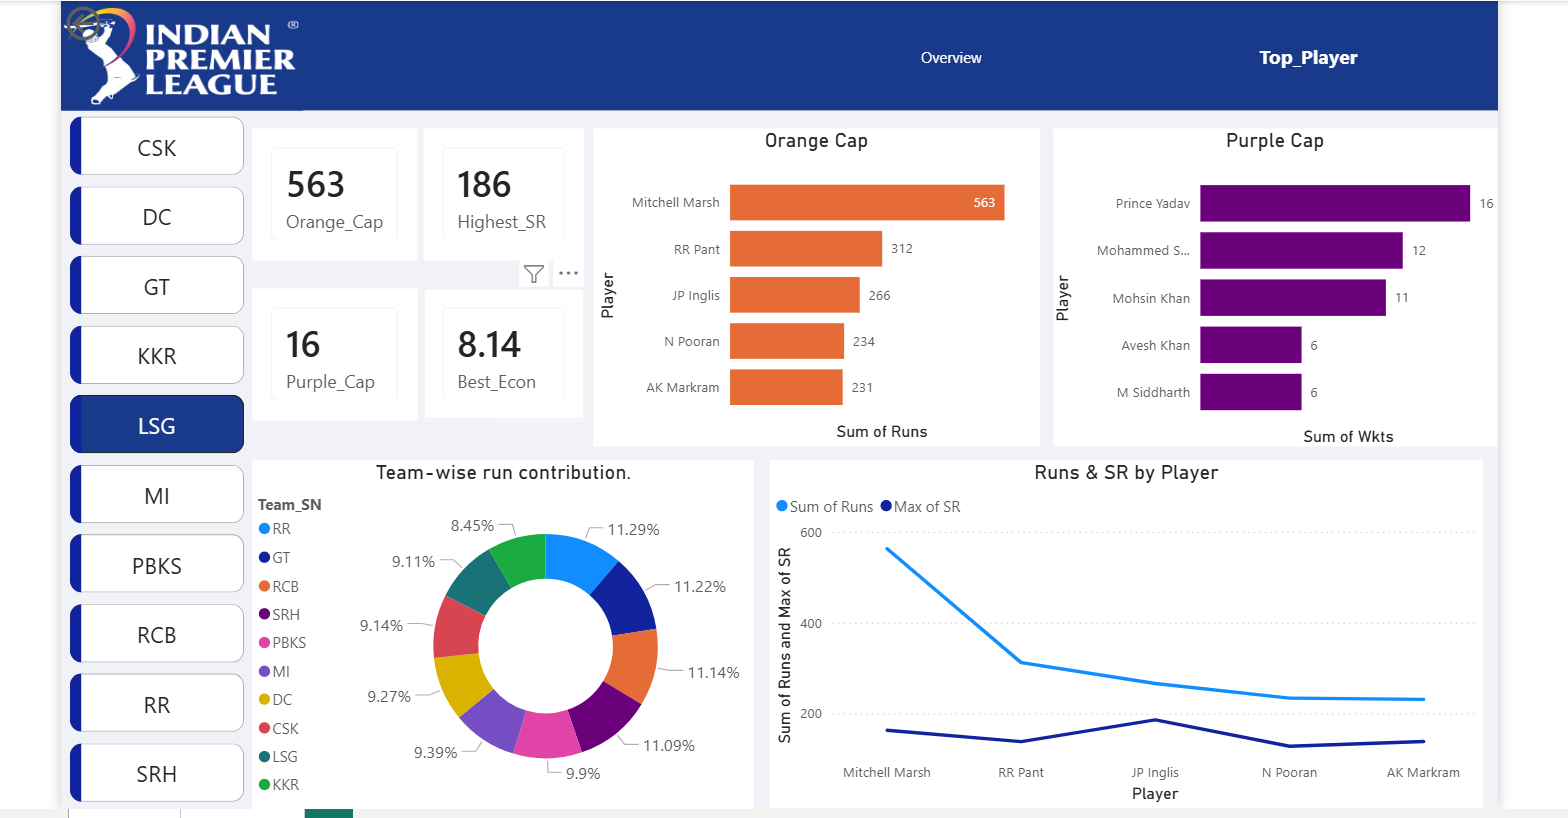

This screenshot's page, from the dashboard's own definition file:
{"tool":"powerbi","page":{"name":"Top_Player","canvas":[1280,720],"ordinal":1},"visuals":[{"type":"slicer","fields":{"Values":["All_matches_score.Series"]},"box":[304.6,39.8,511.8,20.6],"z":0},{"type":"shape","box":[0,0,1280,97.4],"z":1000},{"type":"image","box":[0,0,215.4,97.4],"z":2000},{"type":"actionButton","box":[0,0,100,40],"z":3000},{"type":"pageNavigator","box":[639.5,24.7,627.1,49.4],"z":4000},{"type":"advancedSlicerVisual","fields":{"Values":["Point_table.Team_SN"]},"box":[0,97.4,171.5,621.6],"z":5000},{"type":"clusteredBarChart","title":"Orange Cap","fields":{"Category":["Batting_data.Player"],"Y":["Sum(Batting_data.Runs)"]},"box":[474.1,113.4,397.6,282.8],"z":6000},{"type":"clusteredBarChart","title":"Purple Cap ","fields":{"Category":["Bowling_data.Player"],"Y":["Sum(Bowling_data.Wkts)"]},"box":[884,113.4,394.9,282.8],"z":7000},{"type":"lineChart","title":"Runs & SR by Player","fields":{"Category":["Batting_data.Player"],"Y":["Sum(Batting_data.Runs)","Max(Batting_data.SR)"]},"box":[631.3,408.5,635.4,310.2],"z":8000},{"type":"donutChart","title":"Team-wise run contribution.","fields":{"Category":["Point_table.Team_SN"],"Y":["Sum(Batting_data.Runs)"]},"box":[170.8,408.5,446.8,311.5],"z":9000},{"type":"cardVisual","fields":{"Data":["All_matches_score.Orange_Cap"]},"box":[170.8,113.4,147.6,117.5],"z":10000},{"type":"cardVisual","fields":{"Data":["All_matches_score.Best_Econ"]},"box":[322.5,255.5,143.5,117.5],"z":11000},{"type":"cardVisual","fields":{"Data":["All_matches_score.Purple_Cap"]},"box":[170.8,255.5,147.6,117.5],"z":12000},{"type":"cardVisual","fields":{"Data":["All_matches_score.Highest_SR"]},"box":[322.5,113.4,143.5,117.5],"z":13000}]}

Visuals, with their boxes on the page's 1280x720 design canvas (x1, y1, x2, y2). These are canvas units, not pixel positions in the 1568x818 screenshot, which may show the page scaled, cropped or inside an application window:
slicer - All_matches_score.Series: 305, 40, 816, 60
shape: 0, 0, 1280, 97
image: 0, 0, 215, 97
actionButton: 0, 0, 100, 40
pageNavigator: 640, 25, 1267, 74
advancedSlicerVisual - Point_table.Team_SN: 0, 97, 172, 719
"Orange Cap" clusteredBarChart: 474, 113, 872, 396
"Purple Cap " clusteredBarChart: 884, 113, 1279, 396
"Runs & SR by Player" lineChart: 631, 408, 1267, 719
"Team-wise run contribution." donutChart: 171, 408, 618, 720
cardVisual - All_matches_score.Orange_Cap: 171, 113, 318, 231
cardVisual - All_matches_score.Best_Econ: 322, 256, 466, 373
cardVisual - All_matches_score.Purple_Cap: 171, 256, 318, 373
cardVisual - All_matches_score.Highest_SR: 322, 113, 466, 231
